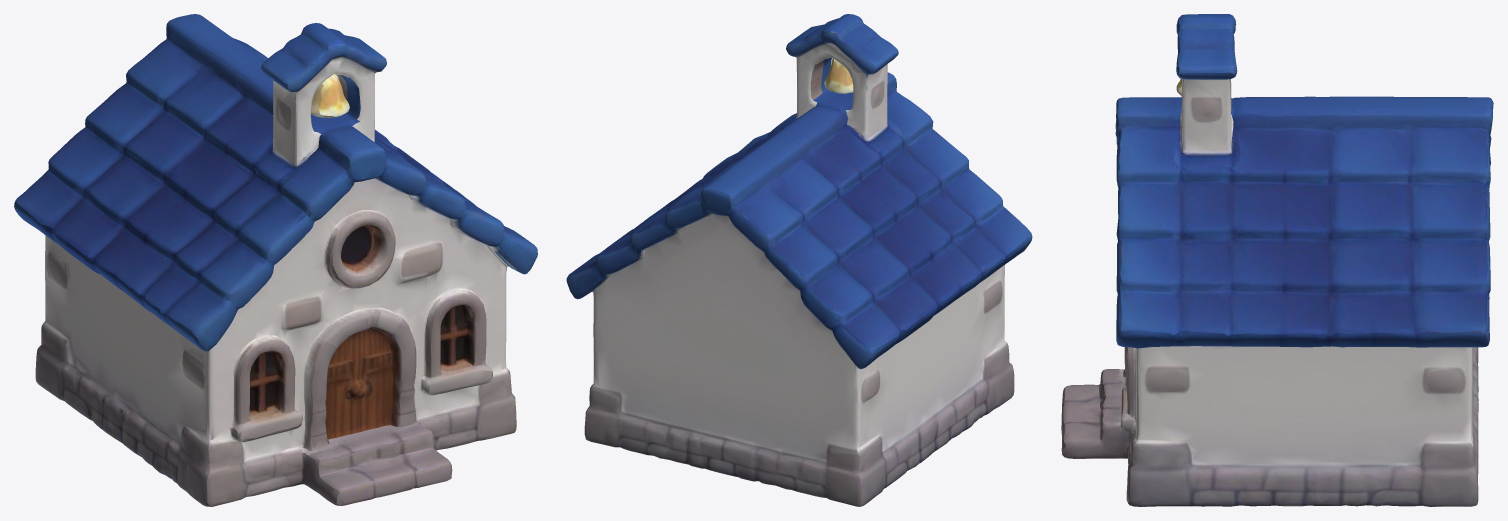
File: hall.glb
3 views of the same model, side by side, from view 1: azimuth 30°, elevation 25°; view 2: azimuth 150°, elevation 25°; view 3: azimuth 270°, elevation 25° (orthographic). The views are drawn at different scales.
Parts seen in each view (by area): view 1: hall_s15; view 2: hall_s15; view 3: hall_s15.
Part boxes in pixels (<box>): hall_s15: <box>14,14,537,506</box>; hall_s15: <box>566,14,1032,506</box>; hall_s15: <box>1061,14,1493,506</box>.
Bounding box in the file's own units: 0.8821 × 1 × 0.9422.
1 material, 1 textured.
